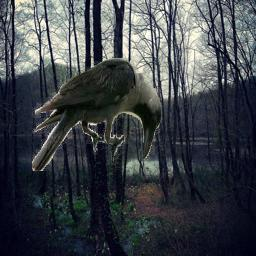Crow: (32, 58, 162, 171)
